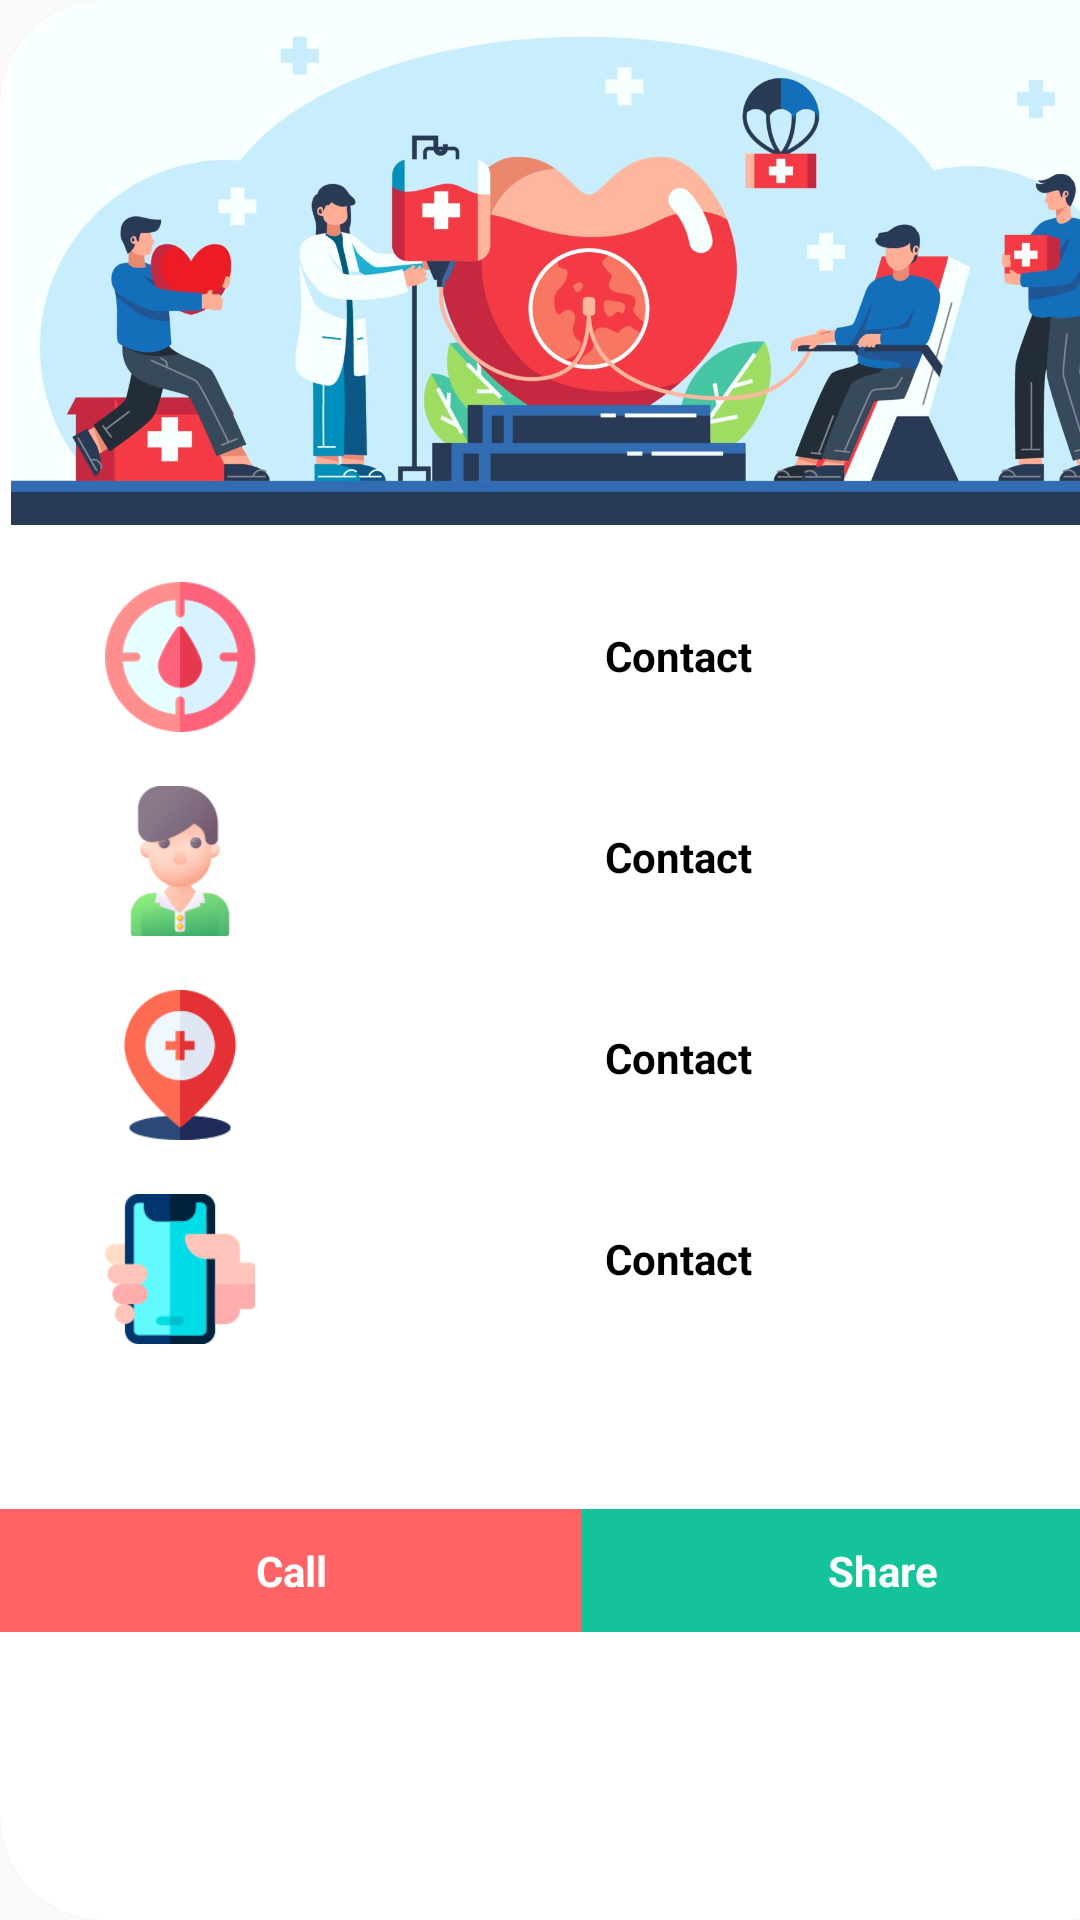

Named icons in this screenshot (1080 x 1920) and their centers, [x,y]:
bloodtype: [180,657]
smartphone: [180,1269]
userdetails: [180,861]
